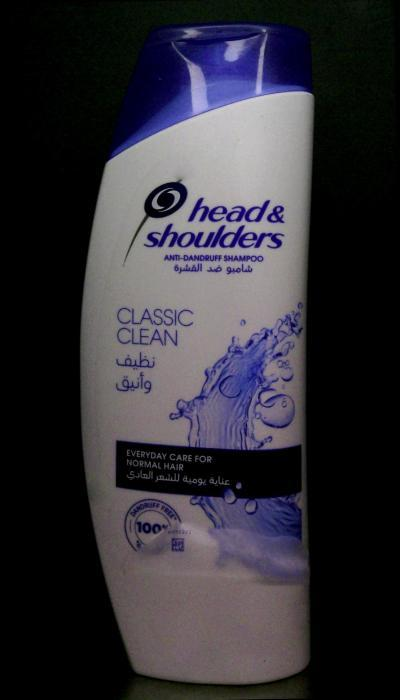adhesion_unacc: (124, 520, 309, 598)
